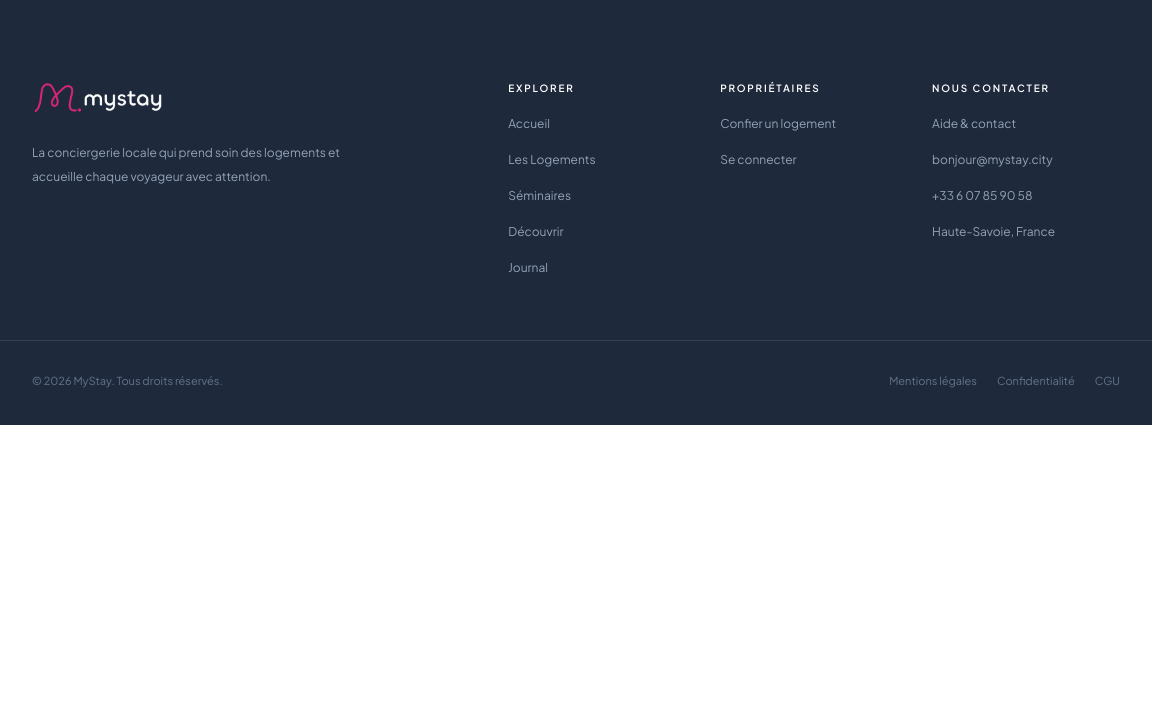
Scenario: 053 help contact modal › AC-01-01: « Aide & contact » opens an accessible modal instead of navigating
Click the button "Aide & contact".
click(974, 124)  # box [932,108,1016,140]
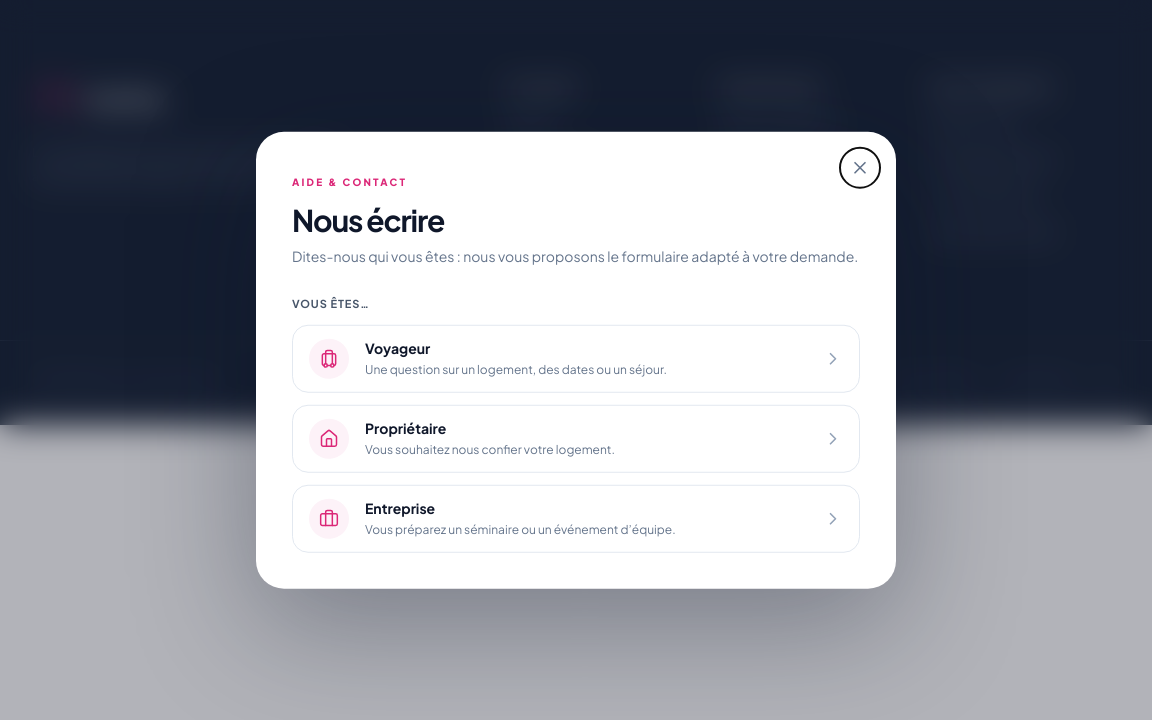
Expected: the button named "Fermer" is shown, [840,148,880,188]
Press Escape in the dialog "Nous écrire", box [256,132,896,588]
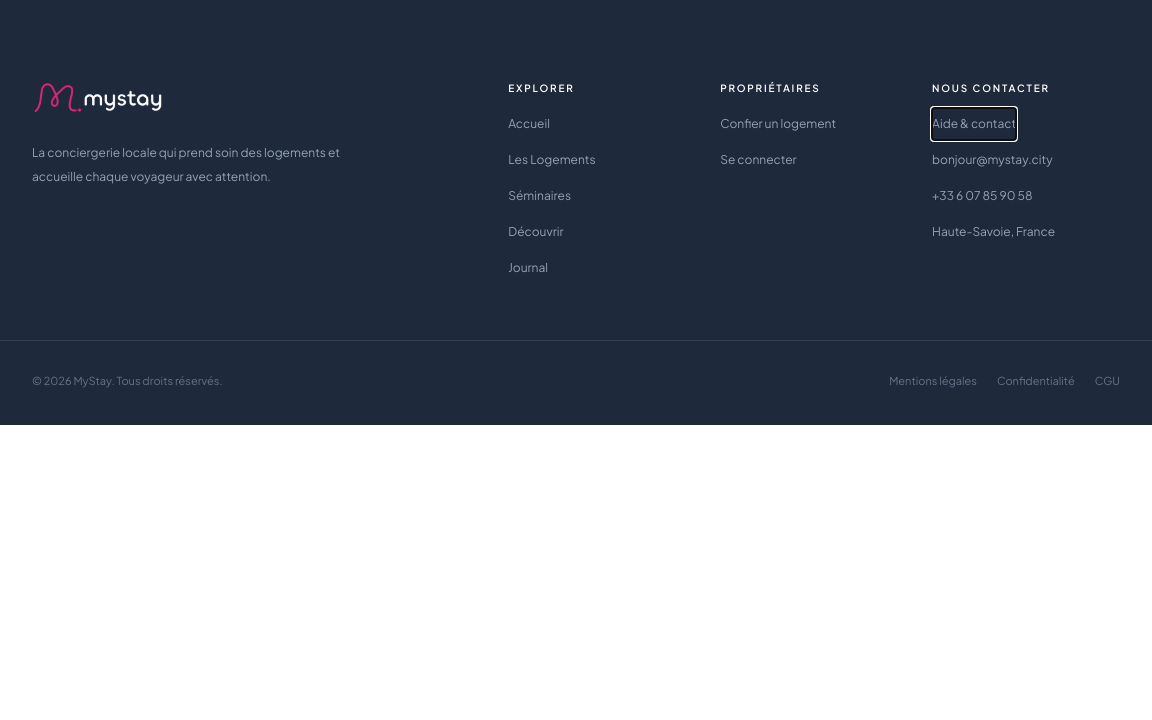
Expected: the dialog is gone
